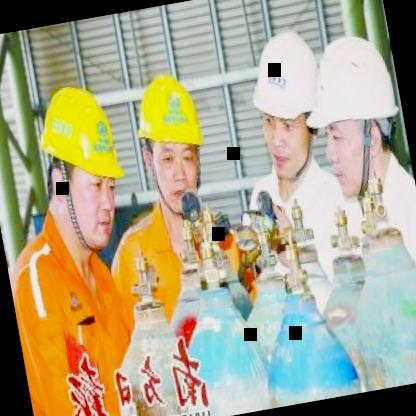helmet: (20, 66, 142, 261), (300, 23, 416, 205), (236, 19, 334, 186), (123, 57, 219, 215)
